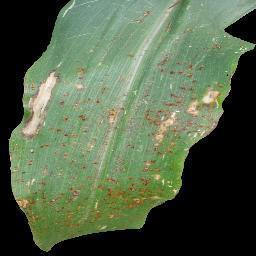Corn_Common_Rust: (110, 51, 235, 233), (14, 61, 106, 234), (133, 7, 155, 31), (58, 2, 78, 19), (161, 1, 189, 12), (211, 38, 226, 51), (239, 42, 251, 56), (181, 24, 192, 38), (167, 22, 174, 36)
